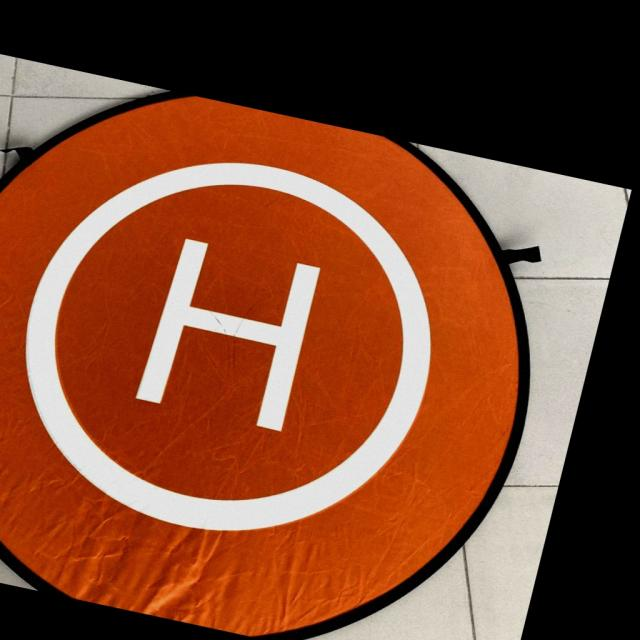helipad: (19, 157, 436, 538)
